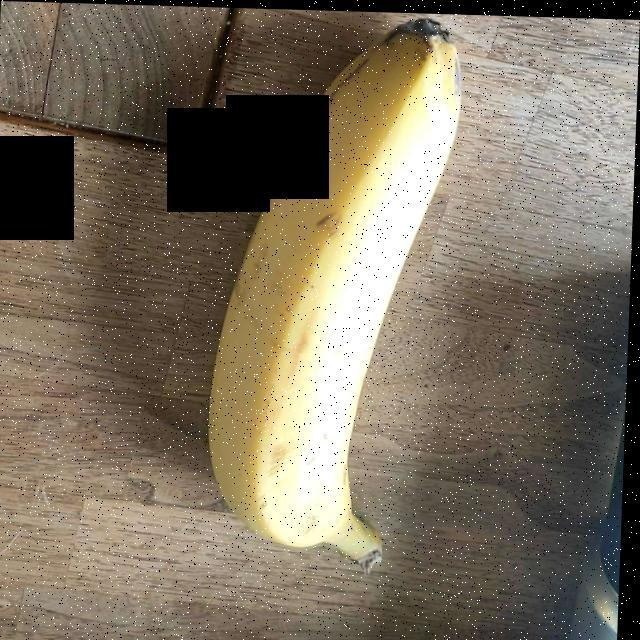banana: (213, 33, 458, 552)
